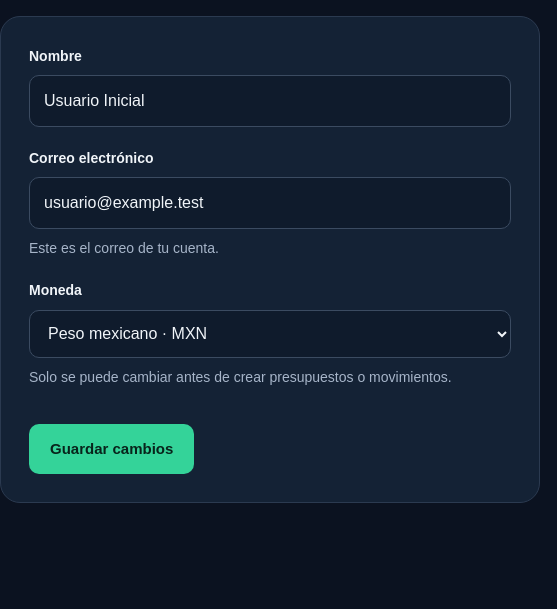
ProfileForm › displays an error state when the profile update fails
Click the button "Guardar cambios": [112, 449] box [29,424,194,474]
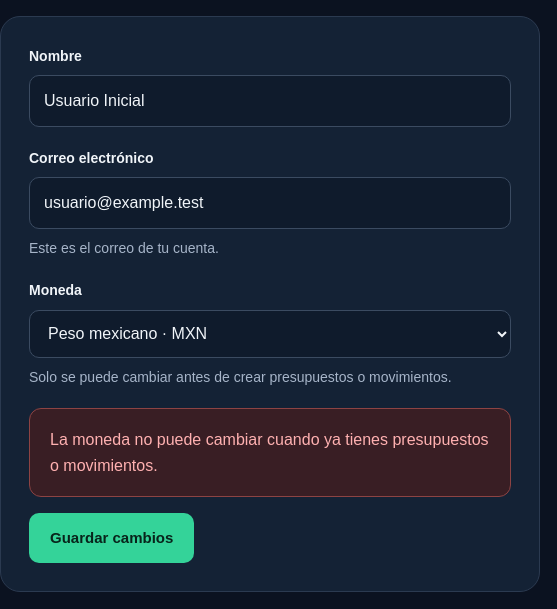
Expected: the message shows "La moneda no puede cambiar", [50,431,488,474]
